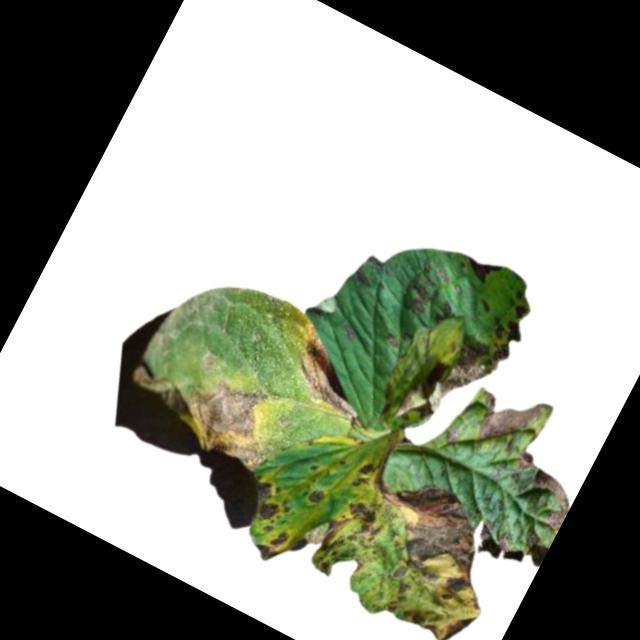Early_blight: (335, 465, 533, 640), (116, 331, 295, 475), (394, 313, 516, 449), (280, 320, 392, 423), (496, 449, 584, 533), (307, 490, 382, 585), (462, 377, 546, 461), (243, 475, 298, 527), (249, 519, 293, 568), (458, 248, 503, 286), (488, 311, 530, 350), (350, 456, 382, 493), (408, 283, 435, 315), (304, 484, 330, 509)
